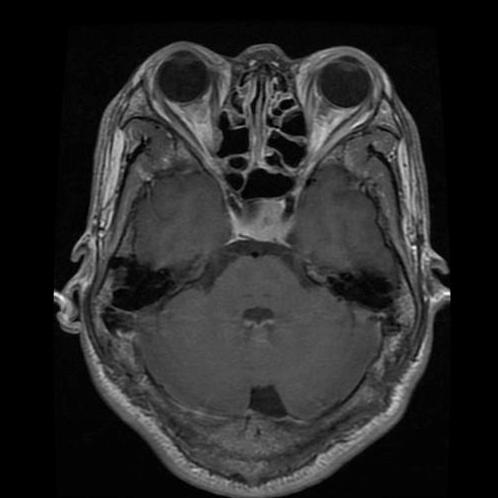Tumour-Pituitary: (213, 195, 310, 262)
